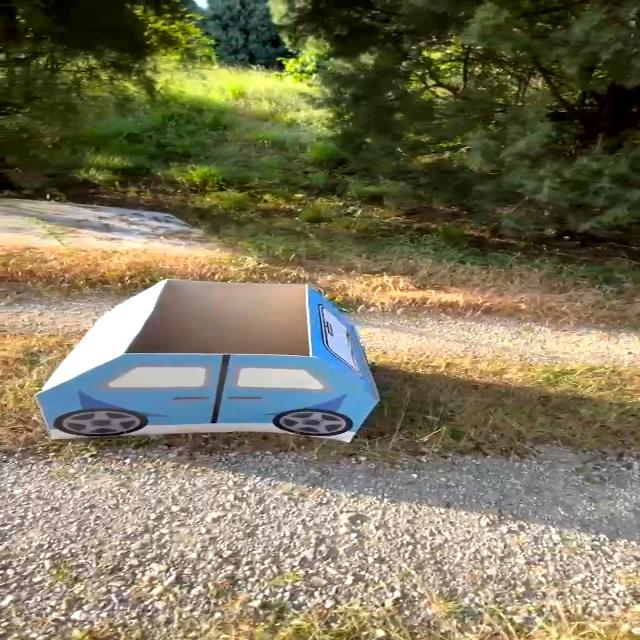blue_car: (10, 258, 412, 454)
